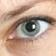eye: (22, 20, 39, 36)
